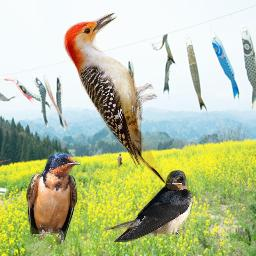Swallow: (103, 170, 193, 242), (26, 152, 81, 246)
Woodpecker: (63, 12, 169, 189)
